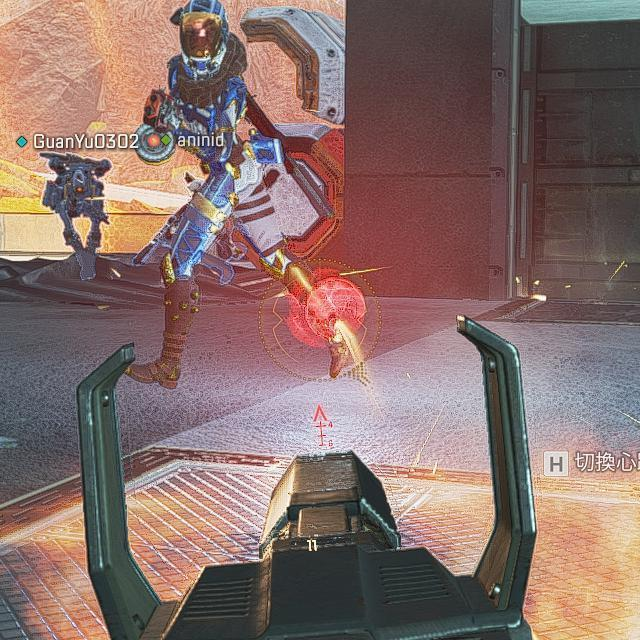avatar: (115, 0, 358, 390), (38, 151, 112, 282)
object: (282, 267, 368, 349)
